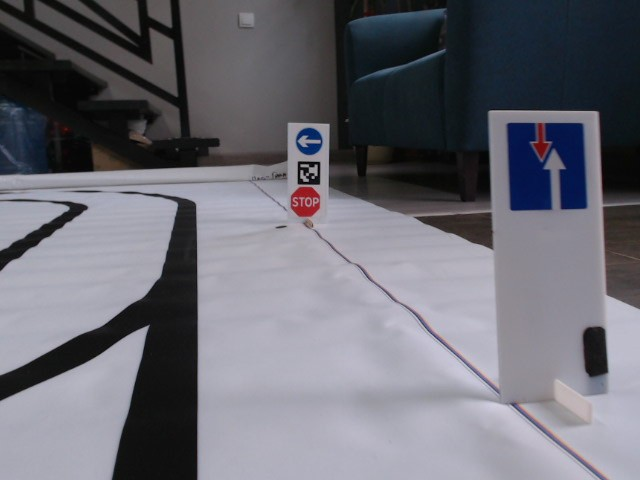Stop: (289, 188, 321, 216)
priority_movement: (502, 120, 588, 212)
